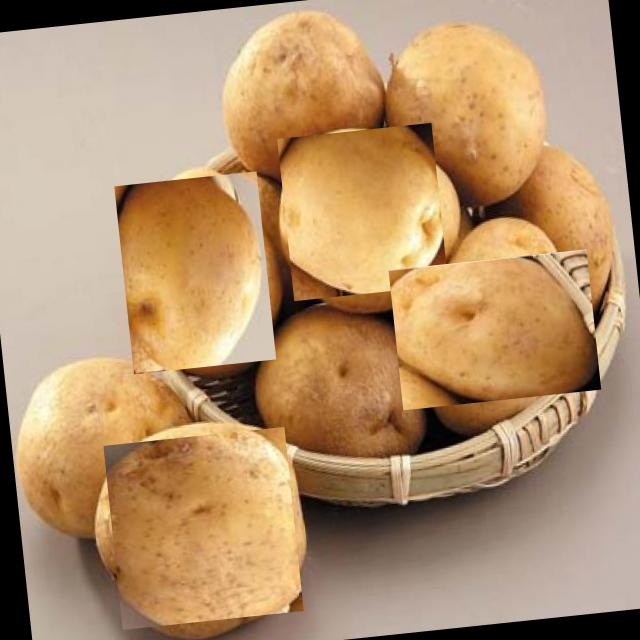potato: (102, 426, 304, 628), (401, 236, 588, 424), (114, 170, 276, 374), (276, 121, 449, 301)
